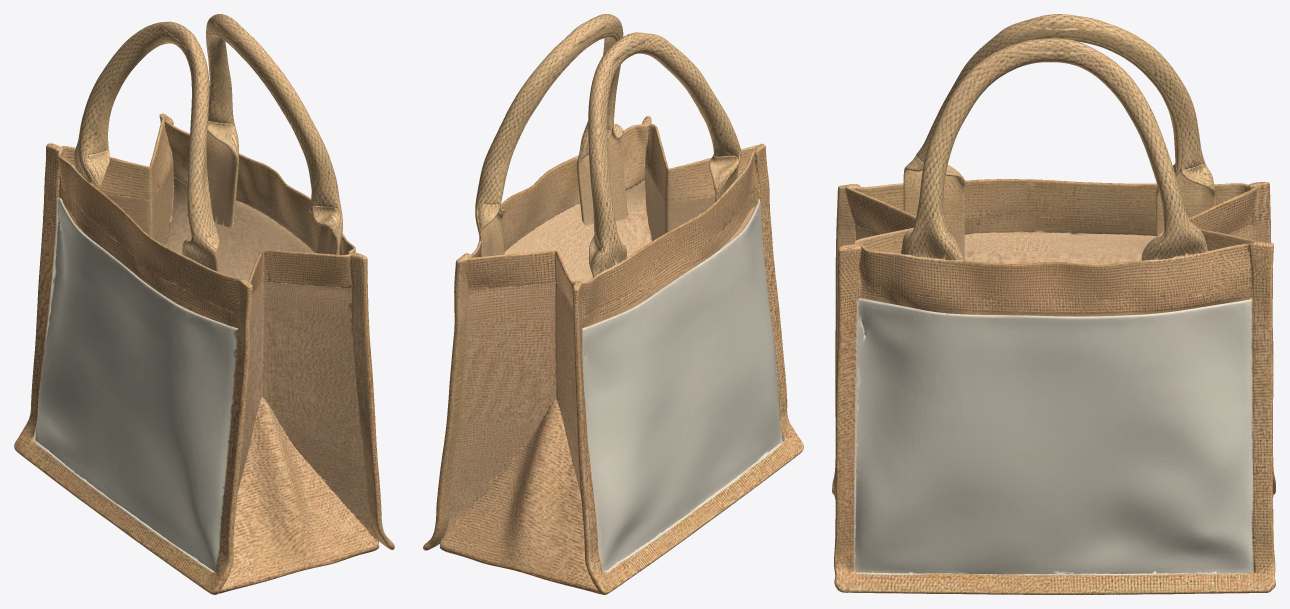
File: jute-tote-bag.glb
3 renders of one model, left to right at view 1: azimuth 30°, elevation 25°; view 2: azimuth 150°, elevation 25°; view 3: azimuth 270°, elevation 25°, orthographic. The views are drawn at different scales.
Visible parts, largest first — view 1: tripo_node_0173db1a-e365-48e4-8405-45e5b86766e0; view 2: tripo_node_0173db1a-e365-48e4-8405-45e5b86766e0; view 3: tripo_node_0173db1a-e365-48e4-8405-45e5b86766e0.
Part boxes in pixels (x1=…): tripo_node_0173db1a-e365-48e4-8405-45e5b86766e0: x1=14, y1=14, x2=394, y2=594; tripo_node_0173db1a-e365-48e4-8405-45e5b86766e0: x1=423, y1=14, x2=803, y2=594; tripo_node_0173db1a-e365-48e4-8405-45e5b86766e0: x1=832, y1=14, x2=1275, y2=594.
Bounding box in the file's own units: 0.4133 × 0.9798 × 0.7585.
Materials: 1 (1 with a texture image).
